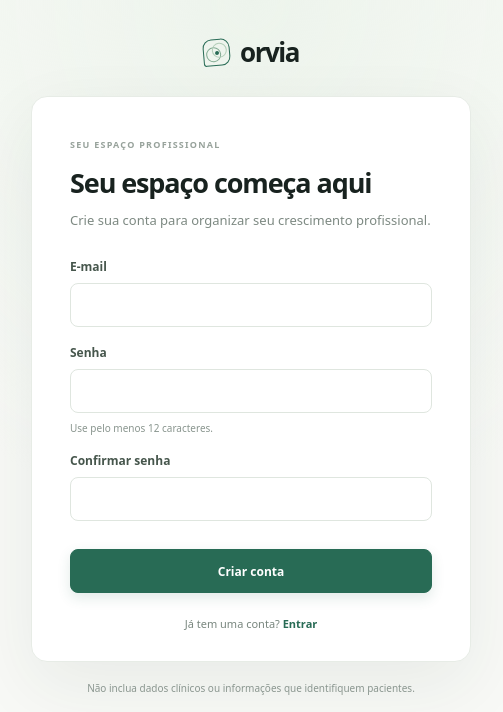
Test: AuthPanel identity feedback › keeps signup feedback non-enumerable and does not claim an account was created
Type "pro@example.com" into the field labelled "E-mail" at (251, 305), box top-left (70, 283), bottom-right (432, 327)
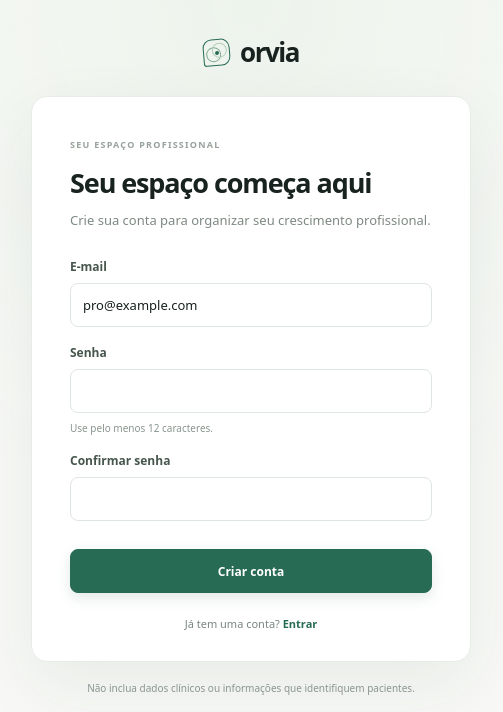
Type "a sufficiently long password" into the password field labelled "Senha Use pelo menos 12 caracteres." at (251, 391), box top-left (70, 369), bottom-right (432, 413)
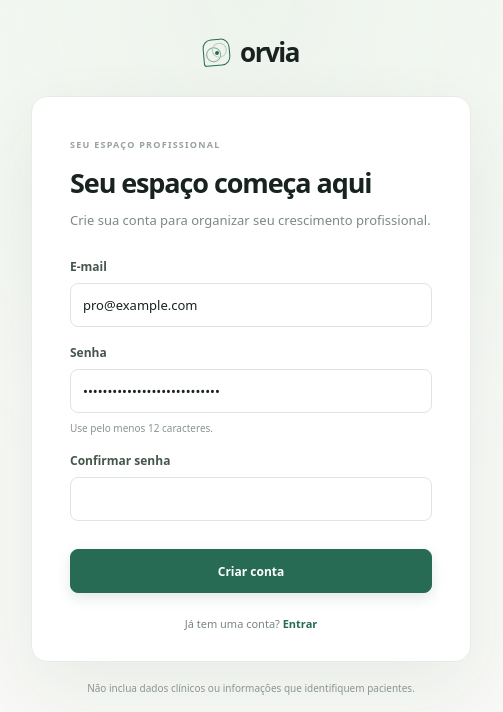
Type "a sufficiently long password" into the password field labelled "Confirmar senha" at (251, 499), box top-left (70, 477), bottom-right (432, 521)
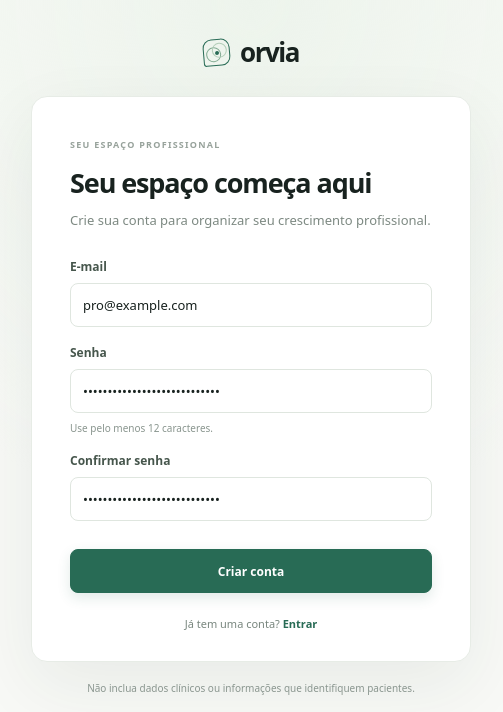
Click the button "Criar conta" at (251, 571), box top-left (70, 549), bottom-right (432, 593)
(page scrolled)
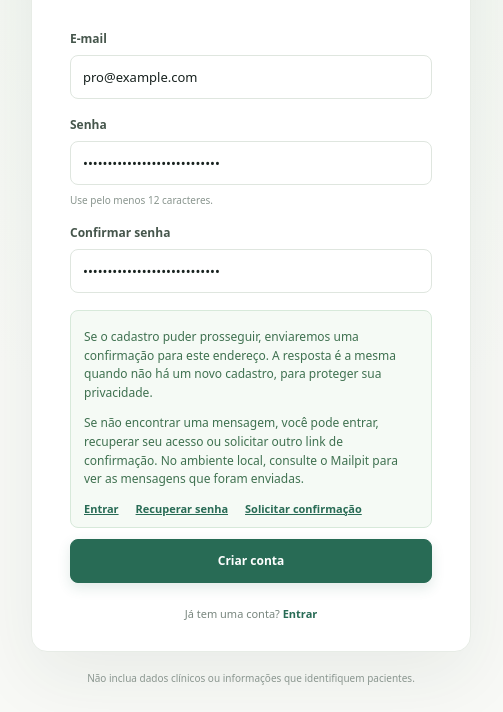
Result: the message shows "Se o cadastro puder prosseguir" at top-left (84, 328), bottom-right (396, 401)
Result: the button "Solicitar confirmação" is shown at top-left (245, 501), bottom-right (362, 516)
